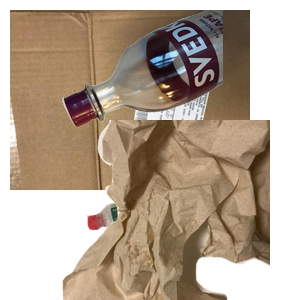cardboard: (10, 10, 250, 190)
glass: (60, 10, 300, 130)
plastic: (84, 191, 242, 300)
trash: (60, 120, 300, 300)
